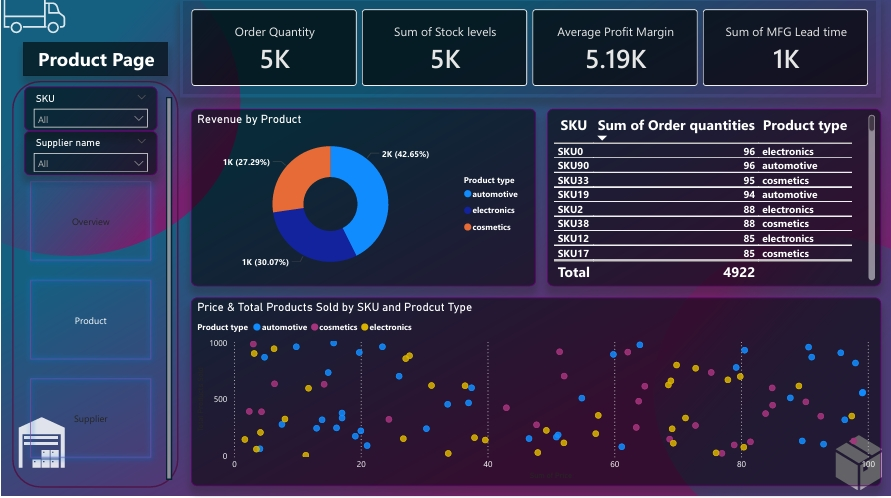

This screenshot's page, from the dashboard's own definition file:
{"tool":"powerbi","page":{"name":"Product","canvas":[1280,720],"ordinal":1},"visuals":[{"type":"cardVisual","fields":{"Data":["supply_chain_data_updated.Order Quantity","Sum(supply_chain_data_updated.Stock levels)","supply_chain_data_updated.Average PRofit Margin","Sum(supply_chain_data_updated.MFG Lead time)"]},"box":[256,0,1008,144],"z":0},{"type":"donutChart","title":"Revenue by Product","fields":{"Y":["Sum(supply_chain_data_updated.Order quantities)"],"Category":["supply_chain_data_updated.Product type"]},"box":[272,160,496,256],"z":1000},{"type":"scatterChart","title":"Price & Total Products Sold by SKU and ProductType","fields":{"Category":["supply_chain_data_updated.SKU"],"X":["Sum(supply_chain_data_updated.Price)"],"Y":["supply_chain_data_updated.Total Products Sold"],"Series":["supply_chain_data_updated.Product type"]},"box":[272,432,992,272],"z":2000},{"type":"tableEx","fields":{"Values":["supply_chain_data_updated.SKU","Sum(supply_chain_data_updated.Order quantities)","supply_chain_data_updated.Product type"]},"box":[784,160,480,256],"z":3000},{"type":"pageNavigator","box":[32,256,192,416],"z":3001},{"type":"textbox","box":[32,64,208,48],"z":3002},{"type":"slicer","fields":{"Values":["supply_chain_data_updated.SKU"]},"box":[32,128,192,64],"z":3003},{"type":"slicer","fields":{"Values":["supply_chain_data_updated.Supplier name"]},"box":[32,192,192,64],"z":3004}]}

Visuals, with their boxes in screenshot pixels (x1, y1, x2, y2), scaled from the page's 1280x720 canvas onto the 891x498 screenshot:
cardVisual - supply_chain_data_updated.Order Quantity x Sum(supply_chain_data_updated.Stock levels): (x1=178, y1=0, x2=880, y2=100)
"Revenue by Product" donutChart: (x1=189, y1=111, x2=535, y2=288)
"Price & Total Products Sold by SKU and ProductType" scatterChart: (x1=189, y1=299, x2=880, y2=487)
tableEx - supply_chain_data_updated.SKU x Sum(supply_chain_data_updated.Order quantities): (x1=546, y1=111, x2=880, y2=288)
pageNavigator: (x1=22, y1=177, x2=156, y2=465)
textbox: (x1=22, y1=44, x2=167, y2=77)
slicer - supply_chain_data_updated.SKU: (x1=22, y1=89, x2=156, y2=133)
slicer - supply_chain_data_updated.Supplier name: (x1=22, y1=133, x2=156, y2=177)
